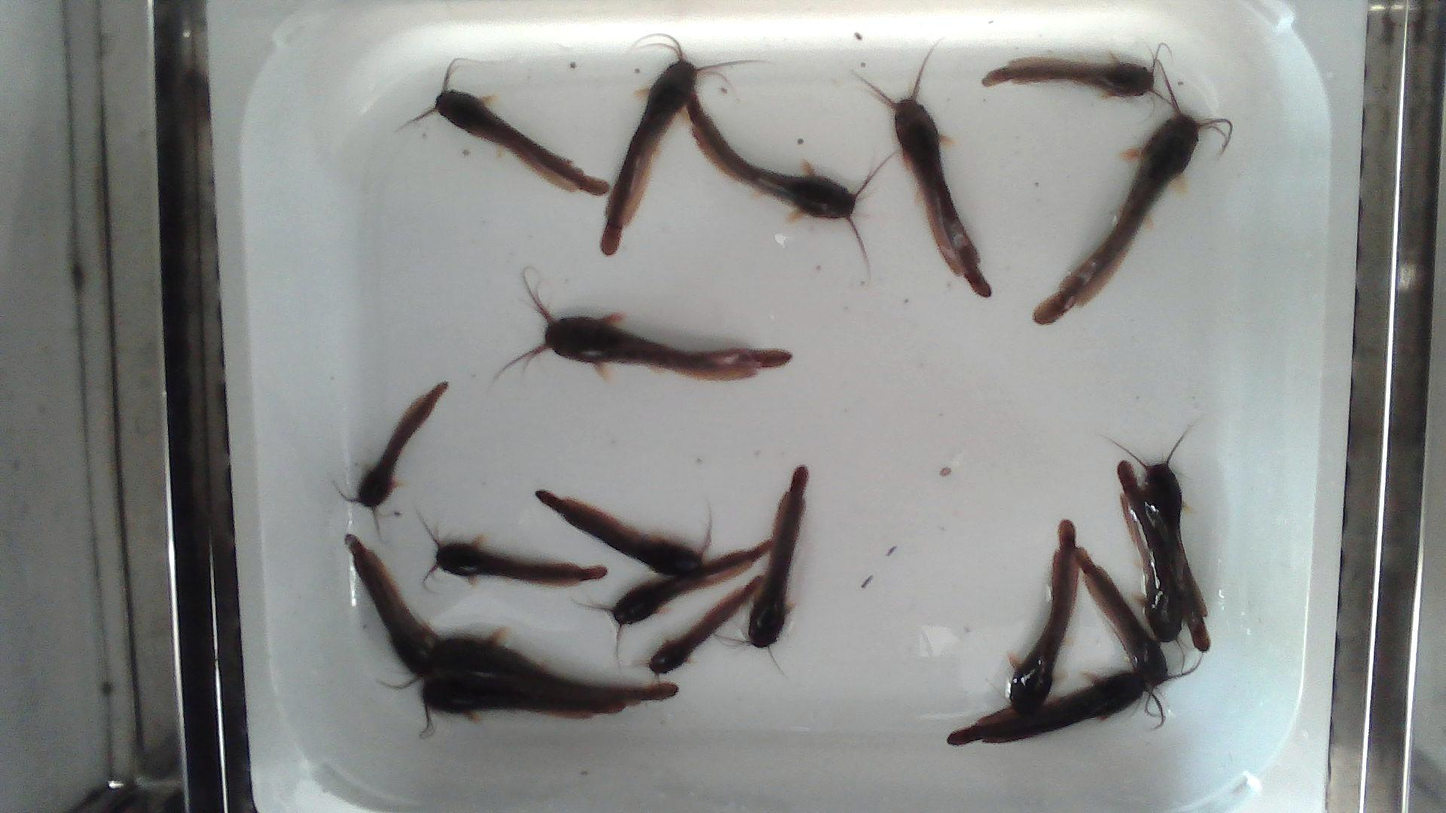lele: (1035, 96, 1230, 324), (685, 91, 890, 261), (861, 47, 990, 297), (499, 281, 792, 379), (601, 32, 728, 255), (409, 65, 609, 196), (1123, 428, 1212, 653), (428, 627, 681, 702), (599, 539, 773, 648), (949, 671, 1163, 744), (420, 669, 641, 734), (535, 491, 703, 575), (344, 534, 441, 678), (1008, 519, 1076, 714), (346, 382, 447, 513), (1115, 460, 1184, 649), (1075, 548, 1167, 685), (649, 576, 763, 674), (747, 466, 807, 647), (429, 531, 606, 586), (984, 58, 1154, 96)
